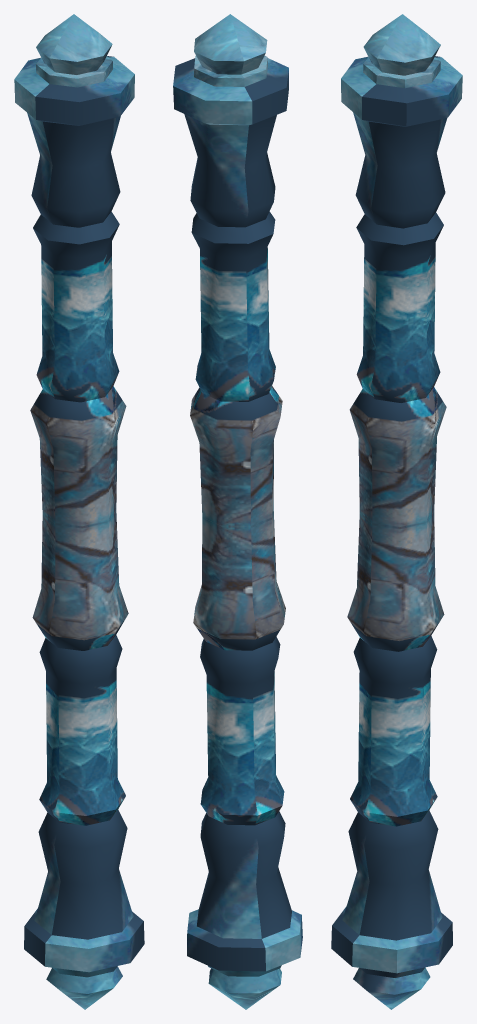
The model's file is 5014_Item_zhuzi_1.FBX.
3 views of the same model, side by side, from view 1: azimuth 90°, elevation 25°; view 2: azimuth 150°, elevation 25°; view 3: azimuth 270°, elevation 25° (orthographic).
Parts seen in each view (by area): view 1: 5014_Item_zhuzi_1; view 2: 5014_Item_zhuzi_1; view 3: 5014_Item_zhuzi_1.
Part boxes in pixels (<box>): 5014_Item_zhuzi_1: <box>14,14,144,1009</box>; 5014_Item_zhuzi_1: <box>173,14,302,1009</box>; 5014_Item_zhuzi_1: <box>331,14,462,1009</box>.
Bounding box in the file's own units: 466 × 3854 × 459.
